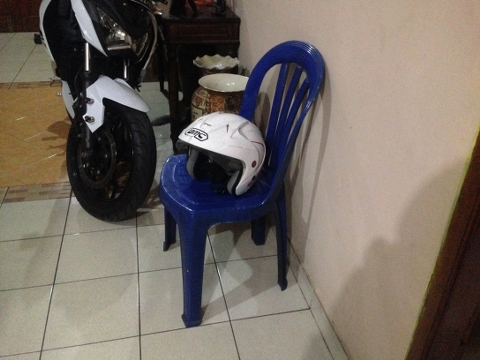kursi: (160, 39, 325, 328)
